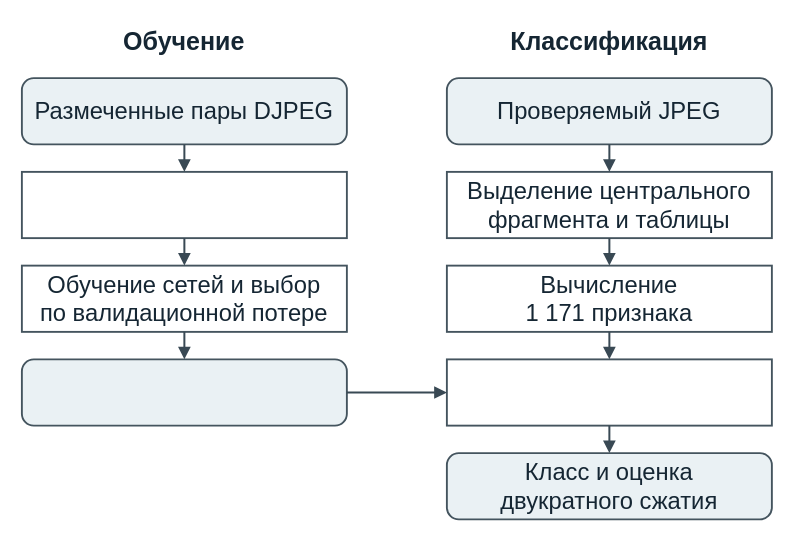
Some shapes in this 795 by 541 pixel diagram are drawn without their labels. The box of each missing label's shape, as (x1, y1, x2, y2) in pixels:
Веса сети и параметры стандартизации: (20, 358, 347, 426)
Разбиение по парам и извлечение признаков: (20, 170, 347, 238)
Стандартизация и применение сети: (445, 358, 772, 426)
